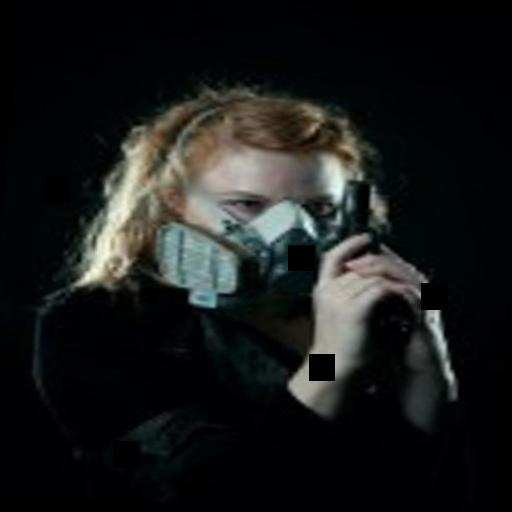Handgun: (318, 174, 420, 348)
